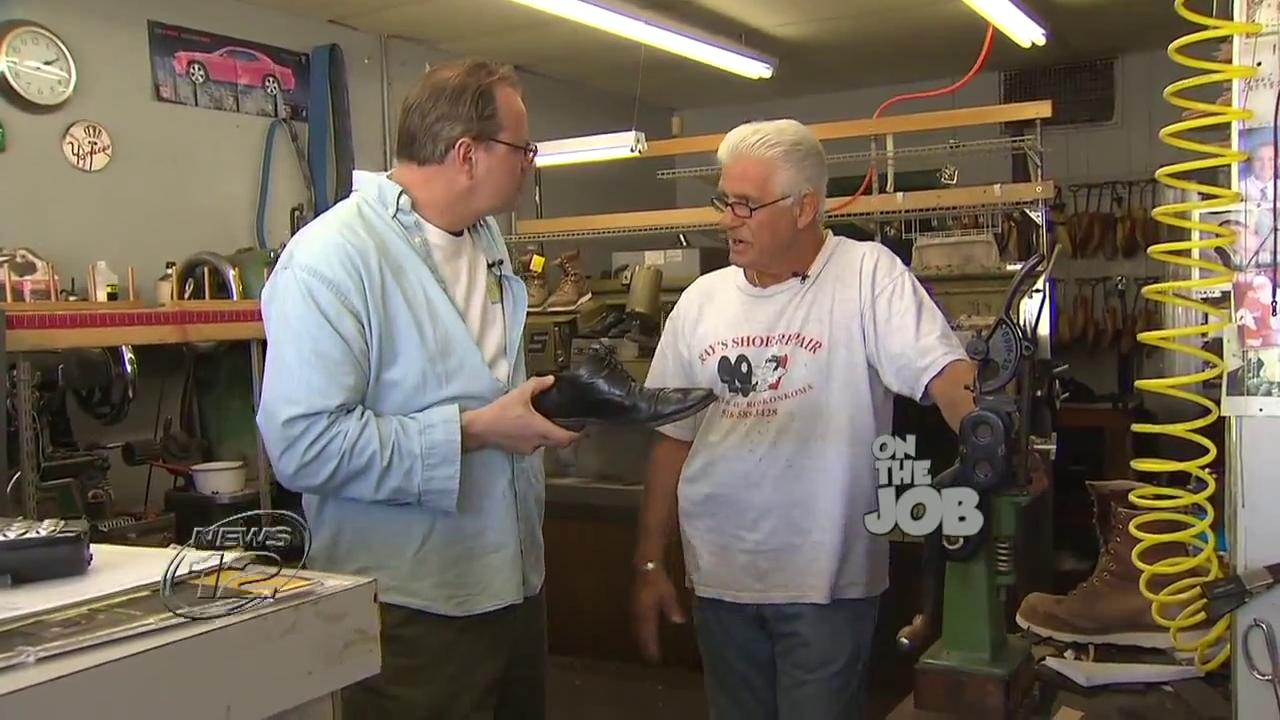victim: (624, 116, 1030, 720), (248, 53, 582, 714)
